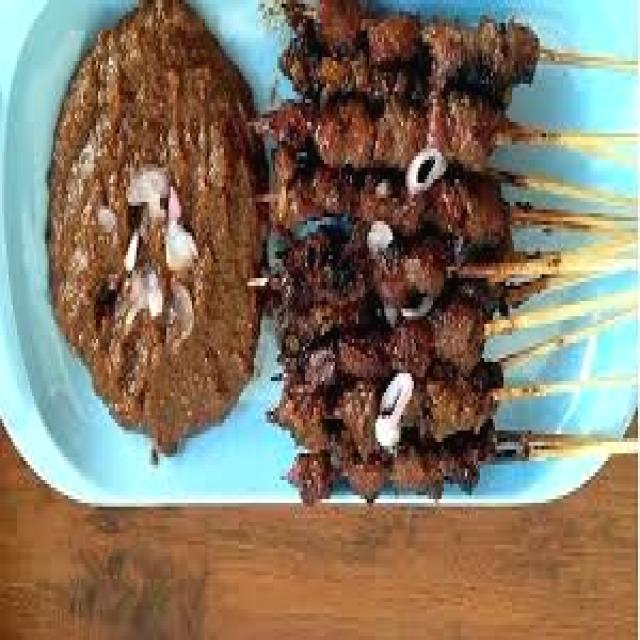sate: (262, 11, 640, 525)
